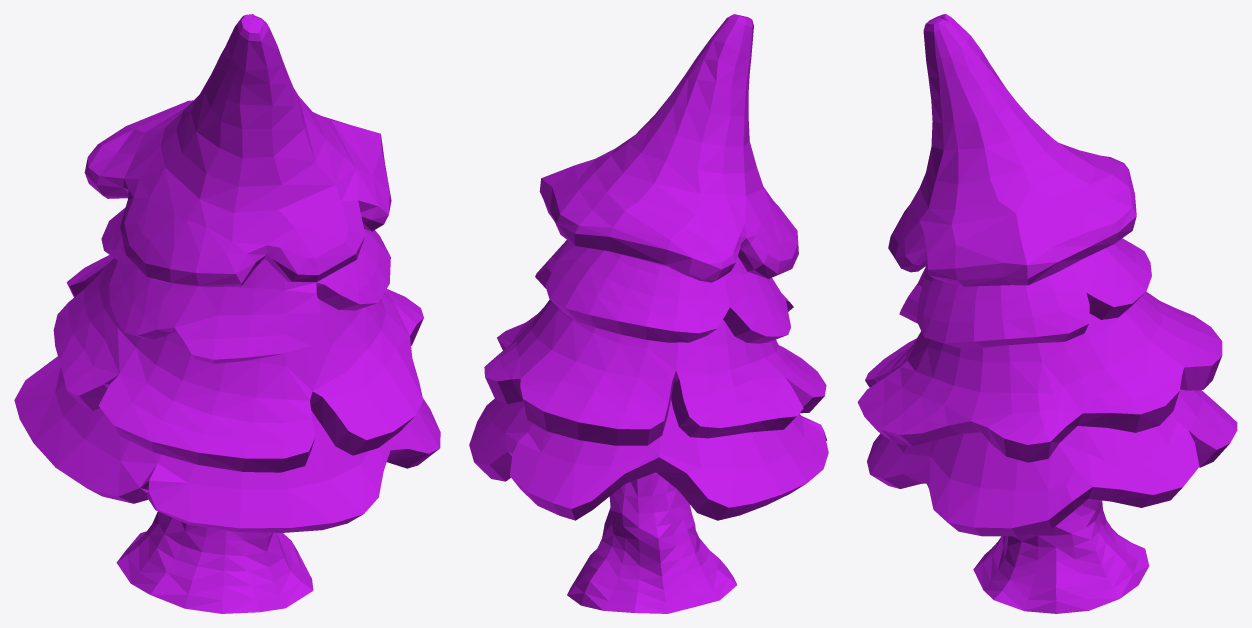
File: meowverse_tree1.glb
The picture shows the model from 3 angles, left to right: view 1: azimuth 30°, elevation 25°; view 2: azimuth 150°, elevation 25°; view 3: azimuth 270°, elevation 25°; orthographic projection. The views are drawn at different scales.
Visible parts, largest first — view 1: tree1v3.006; view 2: tree1v3.006; view 3: tree1v3.006.
Boxes of the visible parts, left/top/right/bottom form: tree1v3.006: left=14, top=14, right=440, bottom=613; tree1v3.006: left=469, top=14, right=828, bottom=613; tree1v3.006: left=857, top=14, right=1237, bottom=613.
Size of the model in its own units: 0.733 by 1.22 by 0.7631.
